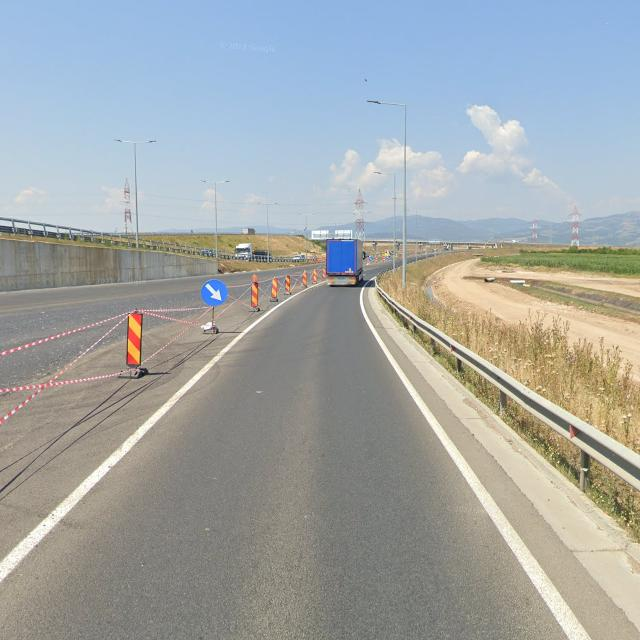mand_pass_right: (202, 279, 228, 306)
